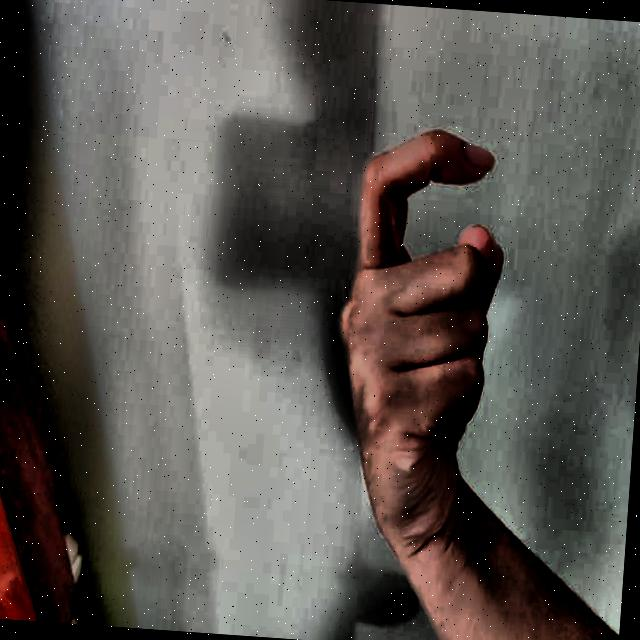E: (295, 64, 573, 554)
